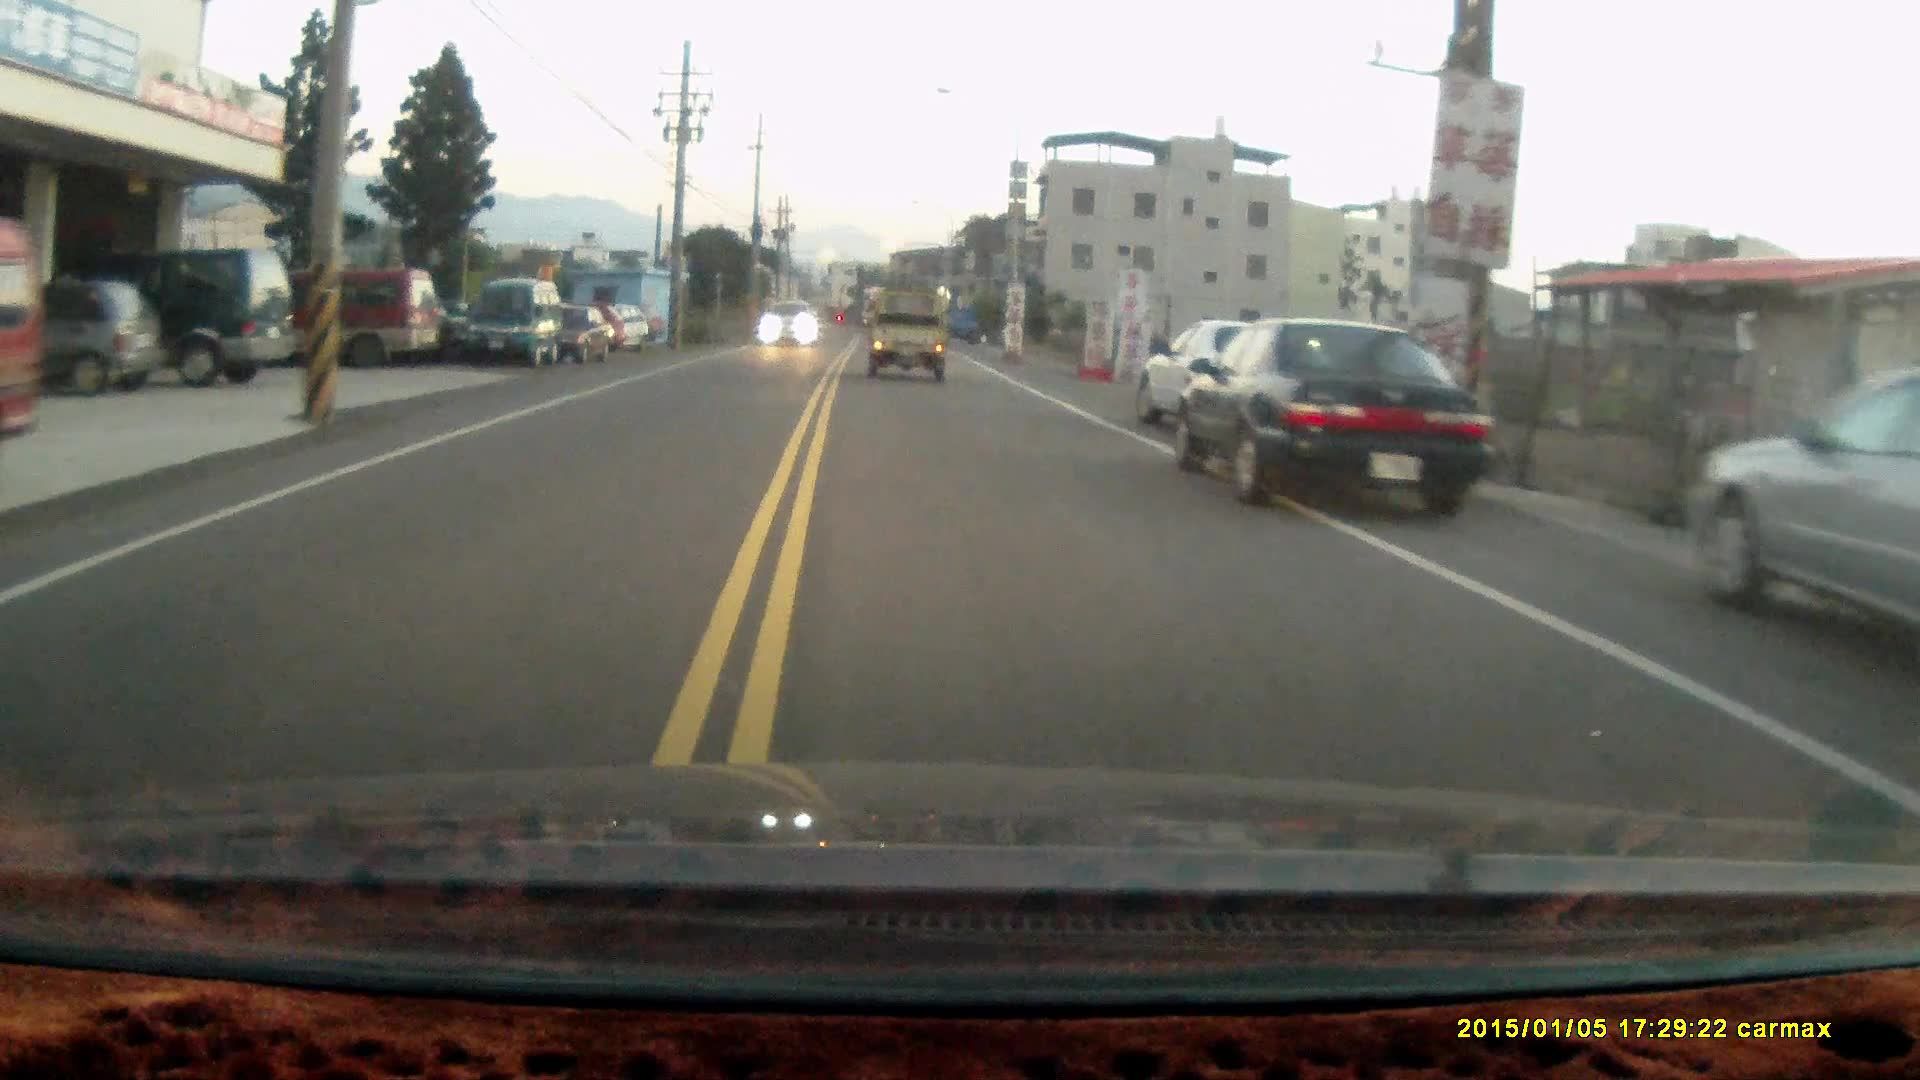vehicle: (1168, 315, 1493, 516), (1687, 375, 1920, 651), (44, 243, 299, 385), (1142, 318, 1313, 440), (235, 265, 443, 365), (1, 280, 169, 402), (1, 220, 50, 483), (454, 278, 560, 369), (865, 287, 949, 378), (541, 305, 618, 364), (758, 301, 820, 347)
